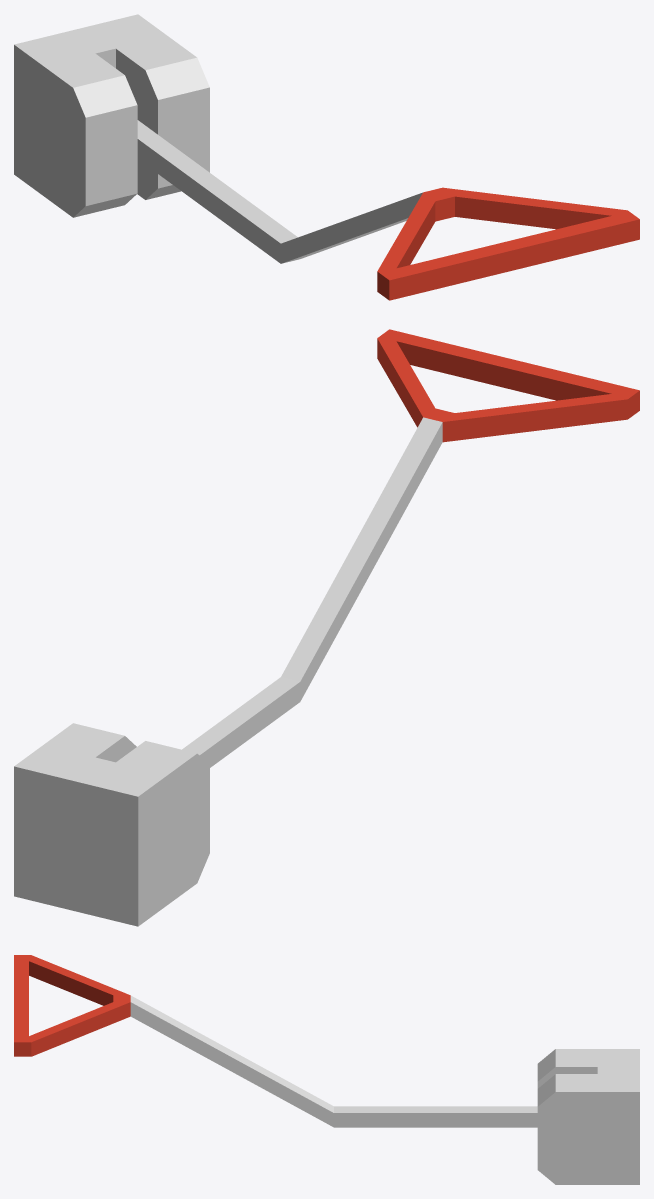
The model's file is Handle.glb.
3 views of the same model, one above another, from view 1: azimuth 30°, elevation 25°; view 2: azimuth 150°, elevation 25°; view 3: azimuth 270°, elevation 25° (orthographic). The views are drawn at different scales.
Parts seen in each view (by area): view 1: Base, Handle; view 2: Base, Handle; view 3: Handle, Base.
Part boxes in pixels (<box>): Base: <box>14,14,209,217</box>; Handle: <box>137,120,639,300</box>; Base: <box>14,723,209,926</box>; Handle: <box>182,329,639,767</box>; Handle: <box>14,955,537,1127</box>; Base: <box>537,1049,639,1184</box>.
Size of the model in its own units: 4.03 by 3.55 by 12.24.
